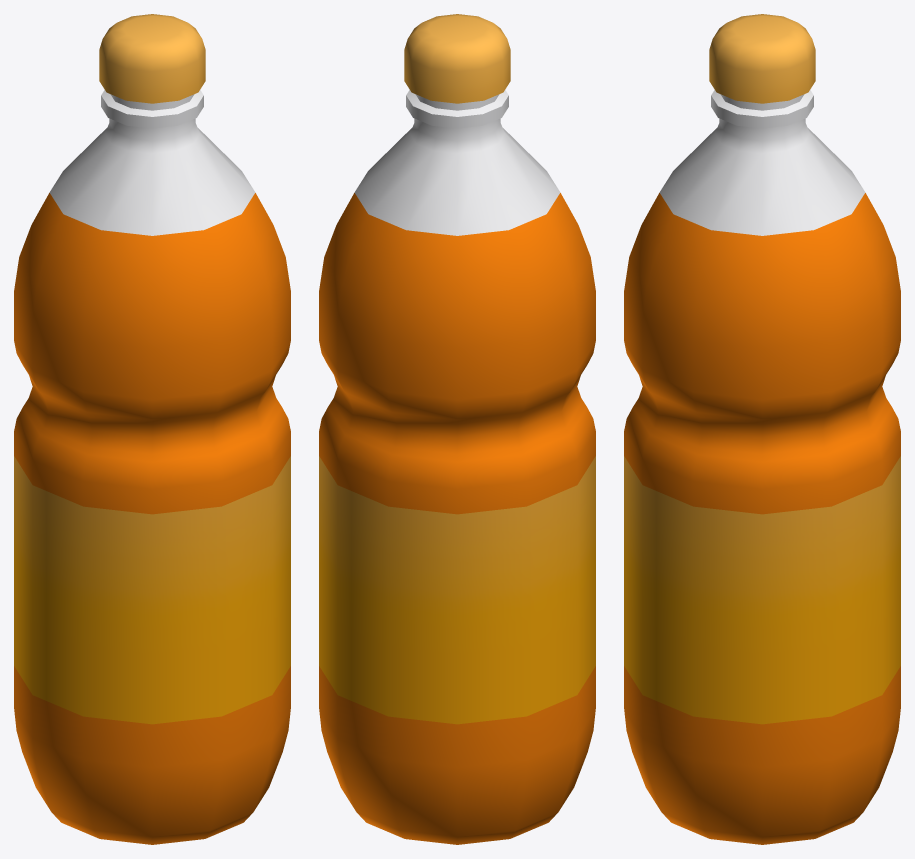
The model's file is Soda_bottle_03.fbx.
3 renders of one model, left to right at view 1: azimuth 30°, elevation 25°; view 2: azimuth 150°, elevation 25°; view 3: azimuth 270°, elevation 25°, orthographic.
Visible parts, largest first — view 1: Soda_bottle_03; view 2: Soda_bottle_03; view 3: Soda_bottle_03.
Part boxes in pixels (box(x1,y1,x2,y2)): Soda_bottle_03: box(14, 14, 290, 844); Soda_bottle_03: box(319, 14, 595, 844); Soda_bottle_03: box(624, 14, 900, 844).
Bounding box in the file's own units: 107 × 107 × 333.
